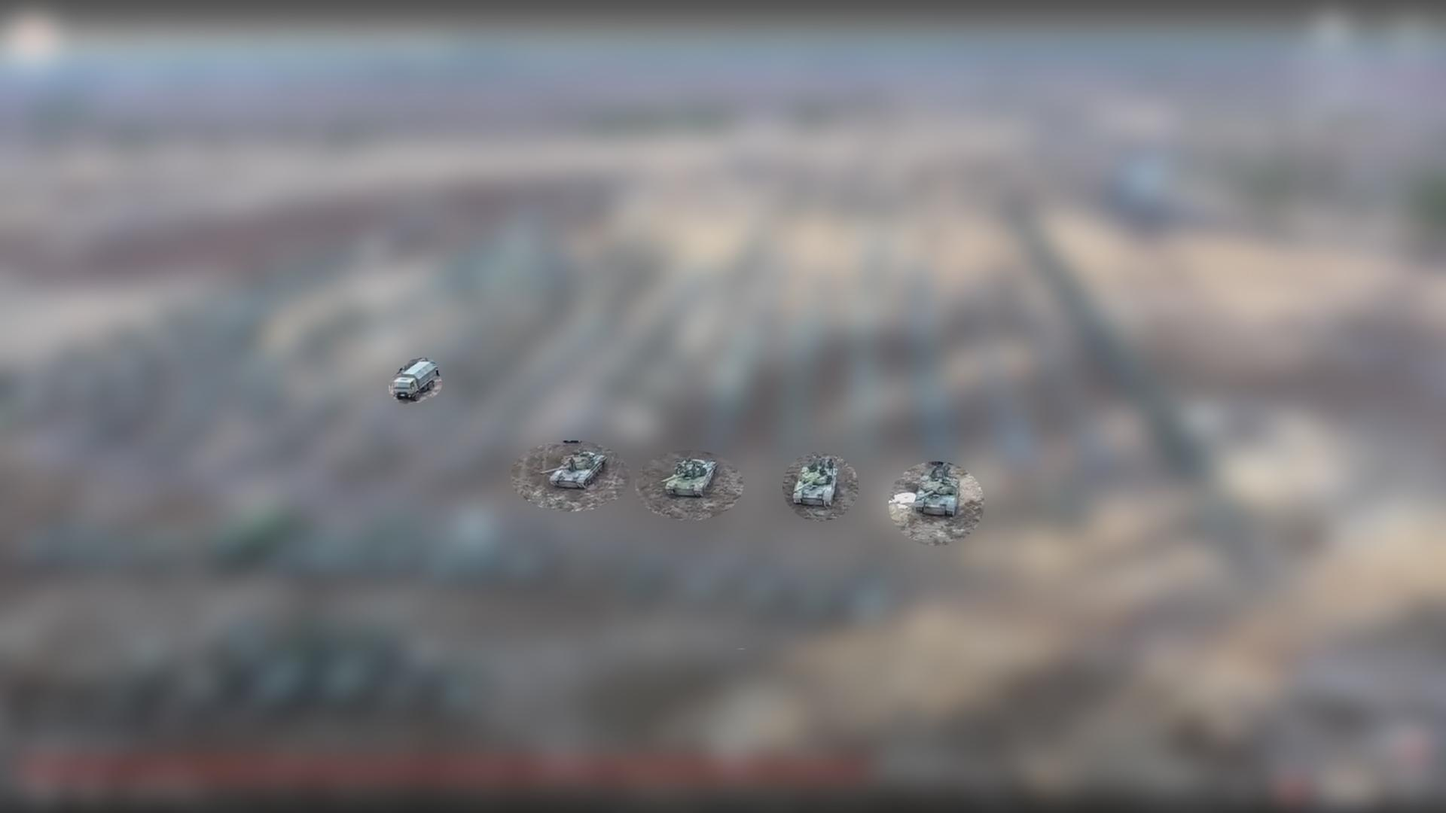tank: (791, 454, 839, 510), (538, 452, 606, 490), (661, 460, 717, 498), (913, 474, 959, 518)
truck: (390, 358, 438, 404)
